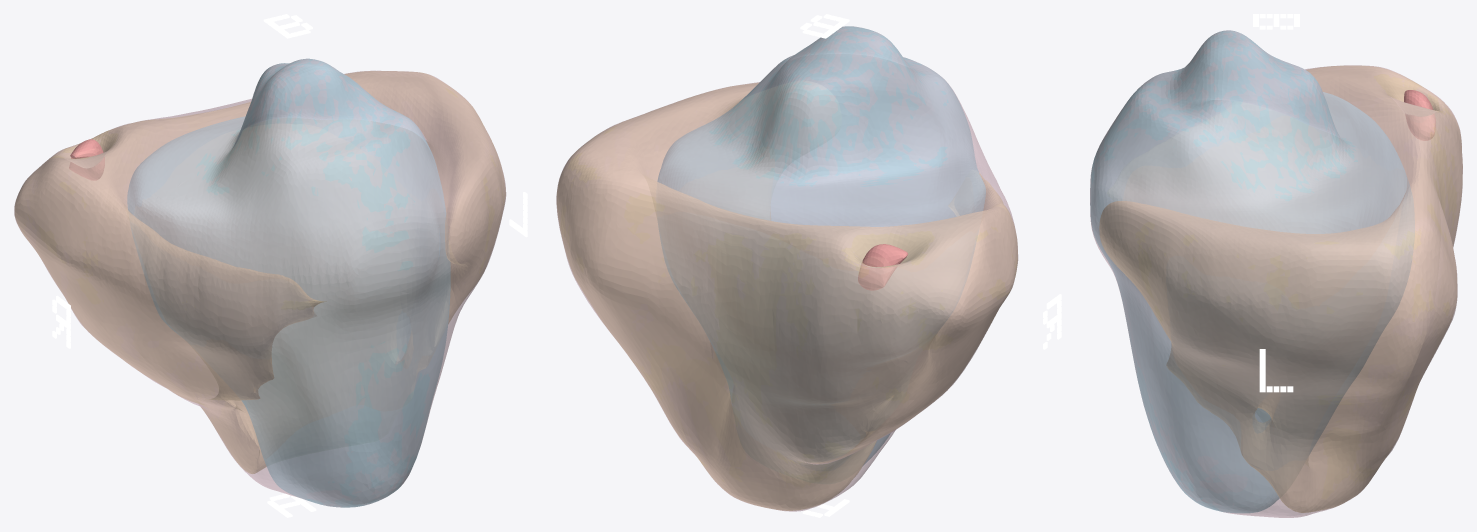
3 renders of one model, left to right at view 1: azimuth 30°, elevation 25°; view 2: azimuth 150°, elevation 25°; view 3: azimuth 270°, elevation 25°, orthographic.
Visible parts, largest first — view 1: prostate_gland, transition_zone, peripheral_zone, lesion_01, pv_ar_marker_B; view 2: prostate_gland, peripheral_zone, transition_zone, lesion_01, pv_ar_marker_B; view 3: prostate_gland, peripheral_zone, transition_zone, lesion_01, pv_ar_marker_B, pv_ar_marker_L.
Boxes of the visible parts, x1=… form: prostate_gland: x1=14, y1=59, x2=506, y2=507; transition_zone: x1=127, y1=58, x2=450, y2=507; peripheral_zone: x1=15, y1=71, x2=505, y2=473; lesion_01: x1=69, y1=139, x2=104, y2=180; pv_ar_marker_B: x1=263, y1=14, x2=312, y2=38; prostate_gland: x1=556, y1=26, x2=1018, y2=511; peripheral_zone: x1=557, y1=83, x2=1017, y2=510; transition_zone: x1=657, y1=26, x2=985, y2=465; lesion_01: x1=858, y1=244, x2=907, y2=290; pv_ar_marker_B: x1=800, y1=14, x2=849, y2=38; prostate_gland: x1=1090, y1=30, x2=1462, y2=517; peripheral_zone: x1=1099, y1=66, x2=1462, y2=512; transition_zone: x1=1090, y1=30, x2=1414, y2=512; lesion_01: x1=1404, y1=90, x2=1435, y2=140; pv_ar_marker_B: x1=1253, y1=14, x2=1299, y2=29; pv_ar_marker_L: x1=1259, y1=349, x2=1293, y2=392.
Size of the model in its own units: 0.0525 by 0.0526 by 0.0372.
